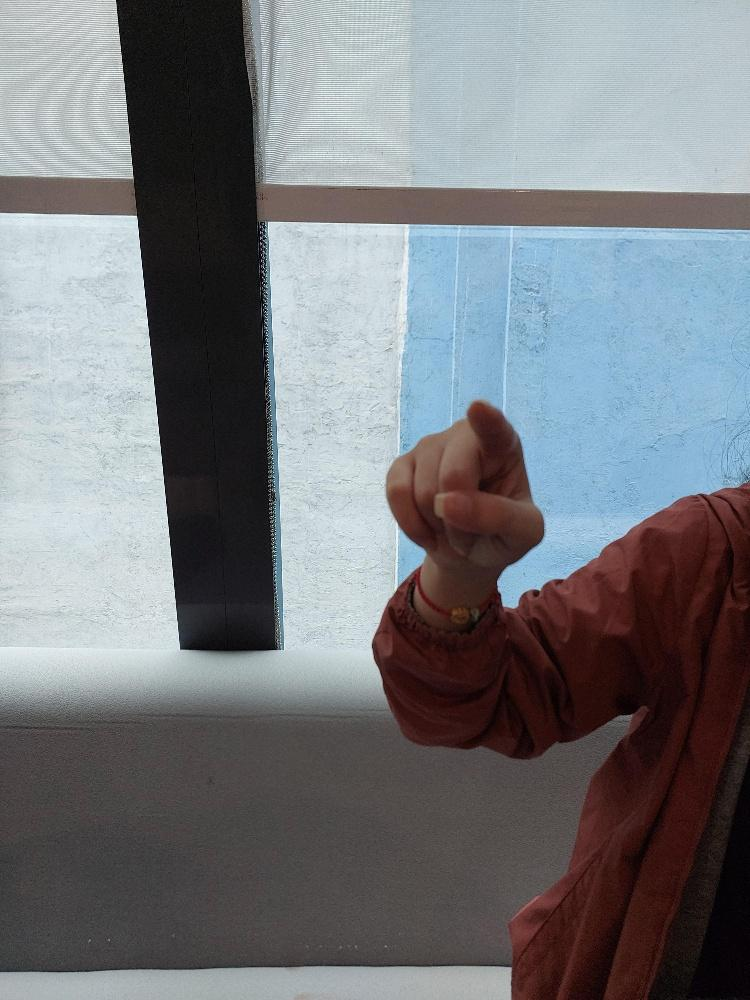z: (379, 399, 544, 581)
